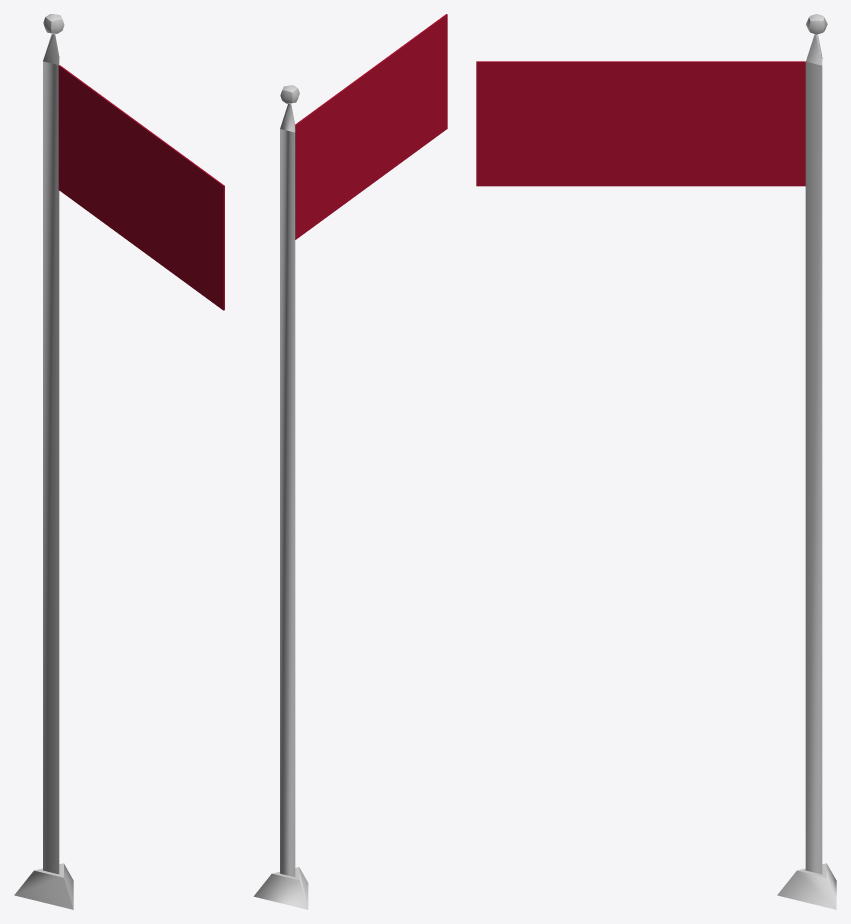
Rendered from flagpole.glb.
3 views of the same model, side by side, from view 1: azimuth 30°, elevation 25°; view 2: azimuth 150°, elevation 25°; view 3: azimuth 270°, elevation 25° (orthographic). The views are drawn at different scales.
Parts seen in each view (by area): view 1: Freeform Flag, Pole, Cone Base; view 2: Freeform Flag, Pole, Cone Base; view 3: Freeform Flag, Pole, Cone Base.
Part boxes in pixels (x1,y1,x2,y2): Freeform Flag: [58, 65, 224, 310]; Pole: [43, 61, 59, 874]; Cone Base: [14, 863, 73, 909]; Freeform Flag: [295, 14, 447, 239]; Pole: [280, 129, 295, 877]; Cone Base: [253, 867, 308, 909]; Freeform Flag: [476, 61, 805, 186]; Pole: [805, 61, 822, 874]; Cone Base: [777, 863, 836, 909].
Bounding box in the file's own units: 0.2511 × 3.54 × 1.31.
